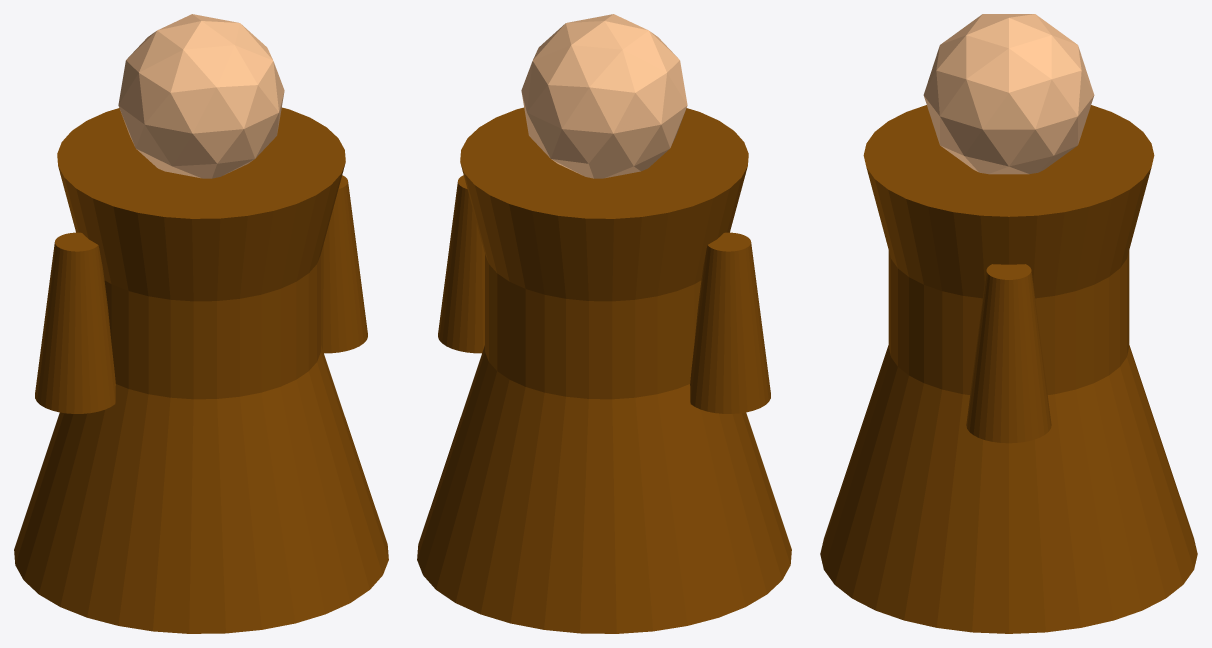
File: monk.glb
The picture shows the model from 3 angles, left to right: view 1: azimuth 30°, elevation 25°; view 2: azimuth 150°, elevation 25°; view 3: azimuth 270°, elevation 25°; orthographic projection.
Visible parts, largest first — view 1: Cloak, Head, Arm.l, Arm.r; view 2: Cloak, Head, Arm.l, Arm.r; view 3: Cloak, Head, Arm.r.
Boxes of the visible parts, box(x1,y1,x2,y2) form: Cloak: box(14, 107, 388, 633); Head: box(118, 14, 284, 178); Arm.l: box(35, 232, 115, 413); Arm.r: box(321, 175, 367, 353); Cloak: box(417, 107, 791, 633); Head: box(521, 14, 687, 178); Arm.l: box(690, 232, 770, 413); Arm.r: box(438, 175, 484, 353); Cloak: box(820, 105, 1197, 633); Head: box(923, 14, 1094, 174); Arm.r: box(966, 264, 1051, 443).
Size of the model in its own units: 0.8842 by 1.39 by 0.8842.
